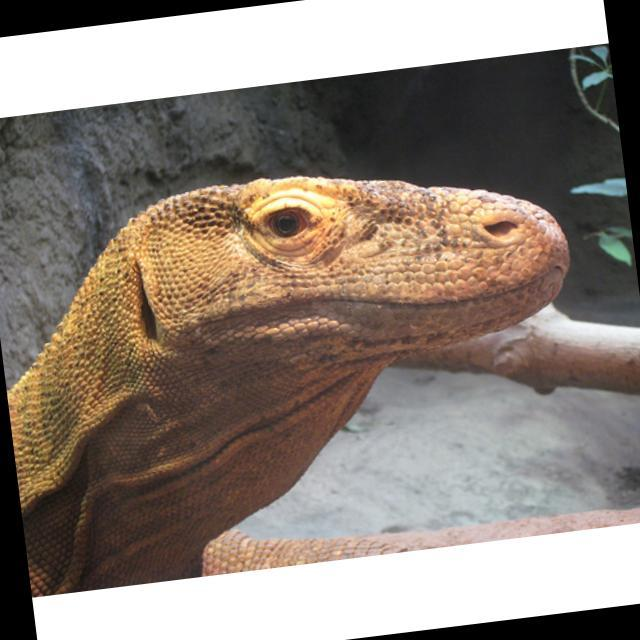KomodoDragon: (0, 138, 601, 594)
